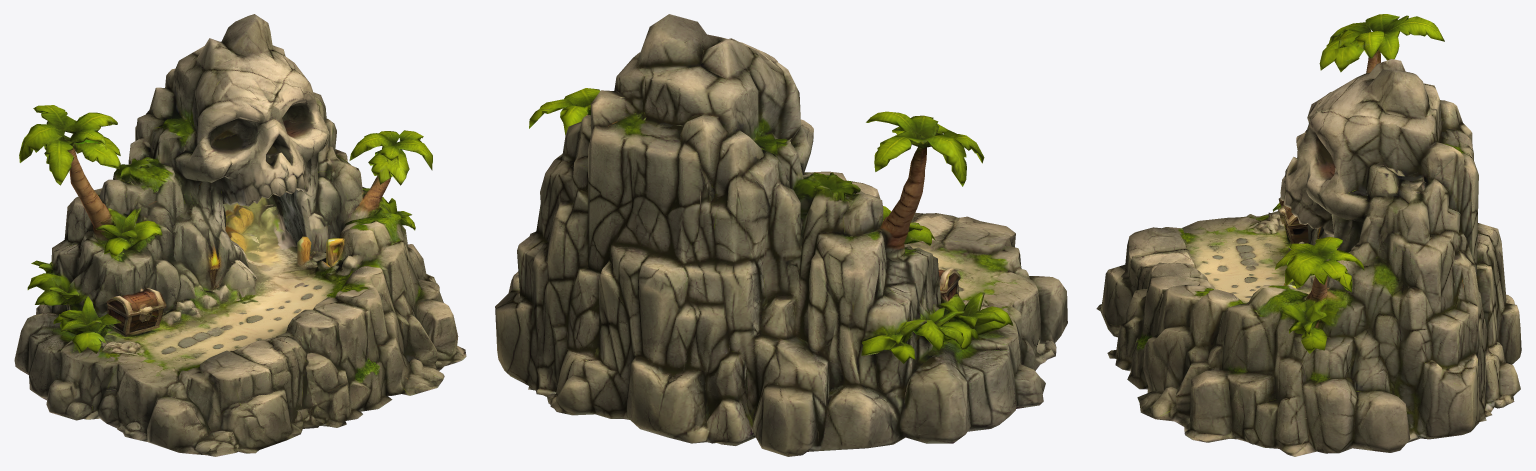
Rendered from Meshy_AI_Skull_Island_Cave_0606180721_texture.fbx.
The picture shows the model from 3 angles, left to right: view 1: azimuth 30°, elevation 25°; view 2: azimuth 150°, elevation 25°; view 3: azimuth 270°, elevation 25°; orthographic projection. The views are drawn at different scales.
Parts seen in each view (by area): view 1: Mesh_0; view 2: Mesh_0; view 3: Mesh_0.
Boxes of the visible parts, left/top/right/bottom form: Mesh_0: left=14, top=14, right=466, bottom=456; Mesh_0: left=495, top=14, right=1067, bottom=456; Mesh_0: left=1096, top=14, right=1521, bottom=456.
Size of the model in its own units: 191 by 134 by 166.
1 material, 1 textured.
